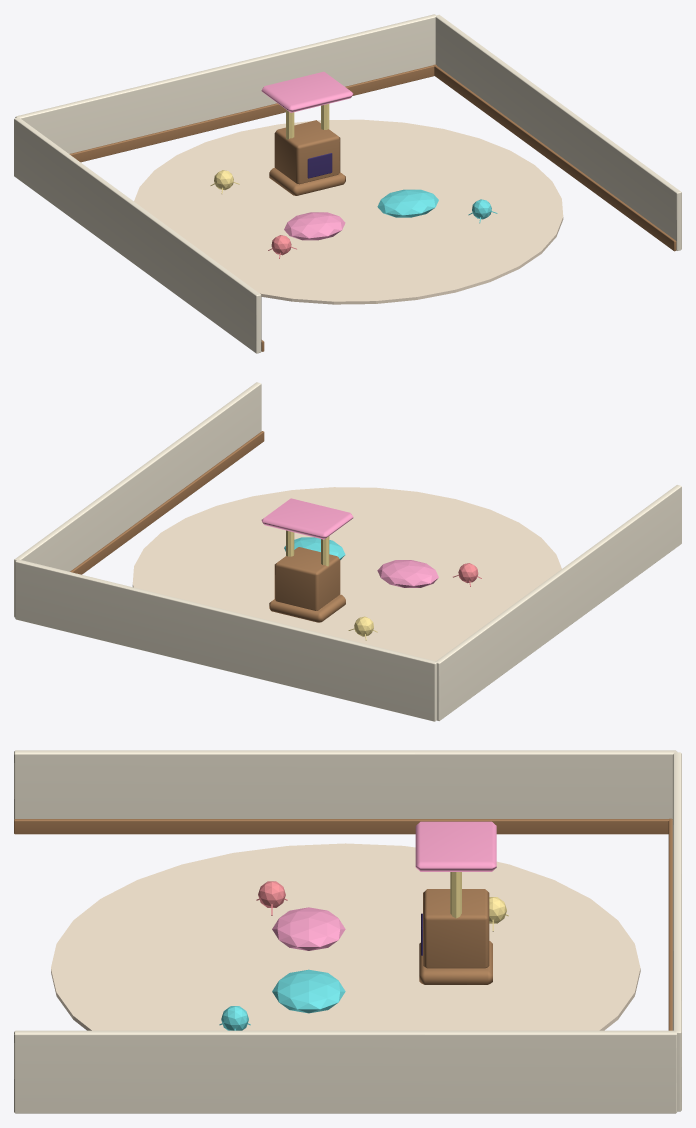
Rendered from luke_cuarto_gatuno_r2.glb.
3 renders of one model, top to bottom at view 1: azimuth 30°, elevation 25°; view 2: azimuth 150°, elevation 25°; view 3: azimuth 270°, elevation 25°, orthographic. The views are drawn at different scales.
Visible parts, largest first — view 1: Plush round rug, Room wall, Room wall.001, Room wall.002, Polished wood baseboard, Polished wood baseboard.002, Hollow cubby shell, Upper cat perch, Puffy cushion, Puffy cushion.001, Scratcher base, Dark cubby opening; view 2: Plush round rug, Room wall, Room wall.001, Room wall.002, Hollow cubby shell, Polished wood baseboard.002, Upper cat perch, Puffy cushion, Scratcher base, Puffy cushion.001; view 3: Plush round rug, Room wall.002, Room wall.001, Polished wood baseboard.001, Hollow cubby shell, Upper cat perch, Room wall, Puffy cushion.001, Puffy cushion, Scratcher base, Polished wood baseboard, Faceted yarn ball (+1 smaller).
Part boxes in pixels (x1,y1,x2,y2): Plush round rug: (134, 119, 563, 304); Room wall: (15, 14, 435, 153); Room wall.001: (14, 117, 261, 353); Room wall.002: (435, 14, 681, 250); Polished wood baseboard: (69, 64, 436, 162); Polished wood baseboard.002: (434, 64, 676, 251); Hollow cubby shell: (274, 120, 340, 184); Upper cat perch: (261, 71, 353, 112); Puffy cushion: (284, 212, 345, 240); Puffy cushion.001: (377, 189, 438, 217); Scratcher base: (269, 168, 345, 195); Dark cubby opening: (307, 153, 332, 178); Plush round rug: (132, 487, 561, 660); Room wall: (15, 559, 436, 721); Room wall.001: (436, 485, 681, 721); Room wall.002: (14, 382, 261, 617); Hollow cubby shell: (274, 547, 340, 610); Polished wood baseboard.002: (70, 431, 264, 574); Upper cat perch: (261, 498, 353, 539); Puffy cushion: (377, 560, 438, 587); Scratcher base: (269, 594, 345, 622); Puffy cushion.001: (284, 537, 345, 559); Plush round rug: (51, 843, 640, 1030); Room wall.002: (14, 1030, 677, 1113); Room wall.001: (14, 750, 676, 819); Polished wood baseboard.001: (14, 819, 672, 834); Hollow cubby shell: (423, 889, 489, 968); Upper cat perch: (415, 821, 496, 871); Room wall: (672, 752, 681, 1111); Puffy cushion.001: (272, 969, 345, 1013); Puffy cushion: (272, 907, 345, 950); Scratcher base: (419, 941, 492, 984); Polished wood baseboard: (668, 818, 672, 1030); Faceted yarn ball: (258, 881, 285, 907).
Bounding box in the file's own units: 18.25 × 3.91 × 18.12.
